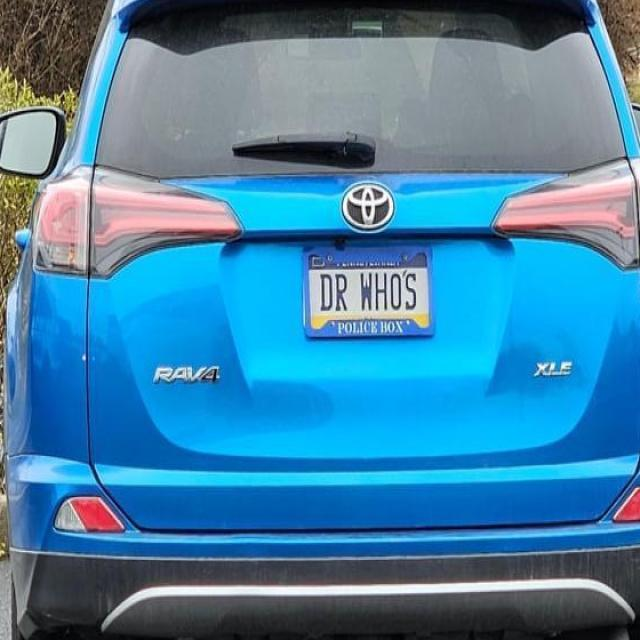license-plate: (299, 238, 435, 338)
